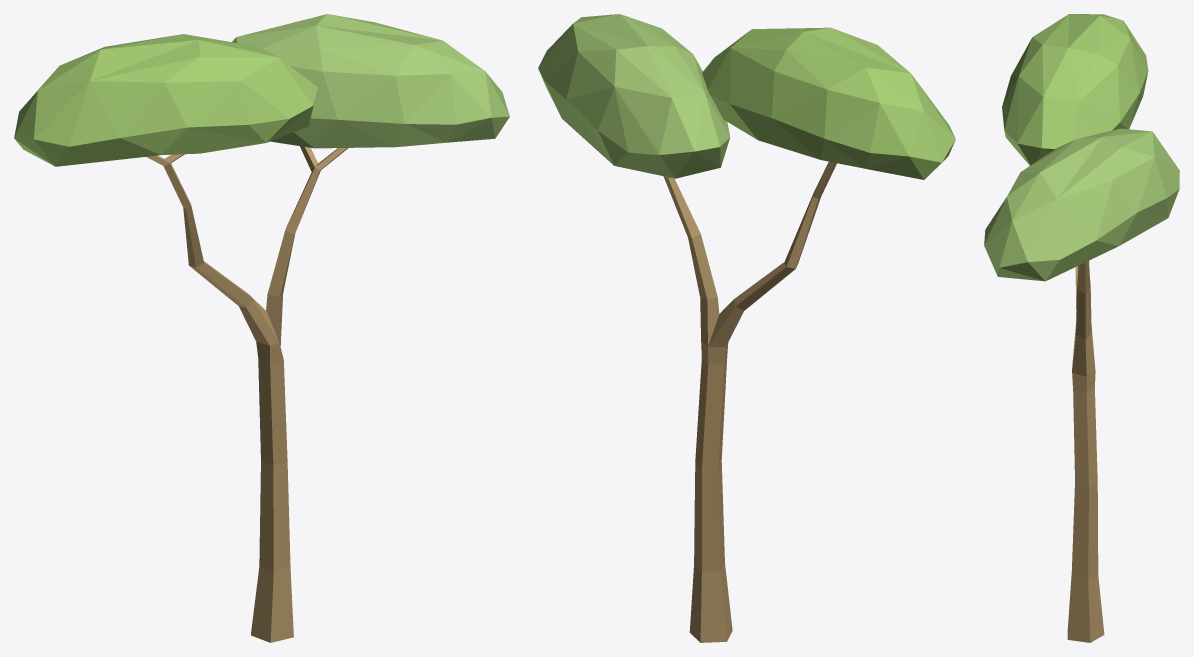
The model's file is Acacia_Tree_s_01_LOD.fbx.
3 views of the same model, side by side, from view 1: azimuth 30°, elevation 25°; view 2: azimuth 150°, elevation 25°; view 3: azimuth 270°, elevation 25° (orthographic). The views are drawn at different scales.
Parts seen in each view (by area): view 1: Acacia_Tree_s_01_LOD0; view 2: Acacia_Tree_s_01_LOD0; view 3: Acacia_Tree_s_01_LOD0.
Part boxes in pixels (<box>): Acacia_Tree_s_01_LOD0: <box>14,14,509,642</box>; Acacia_Tree_s_01_LOD0: <box>538,14,955,642</box>; Acacia_Tree_s_01_LOD0: <box>984,14,1179,642</box>.
Size of what is drawn, in the model's own units: 489 by 654 by 211.
